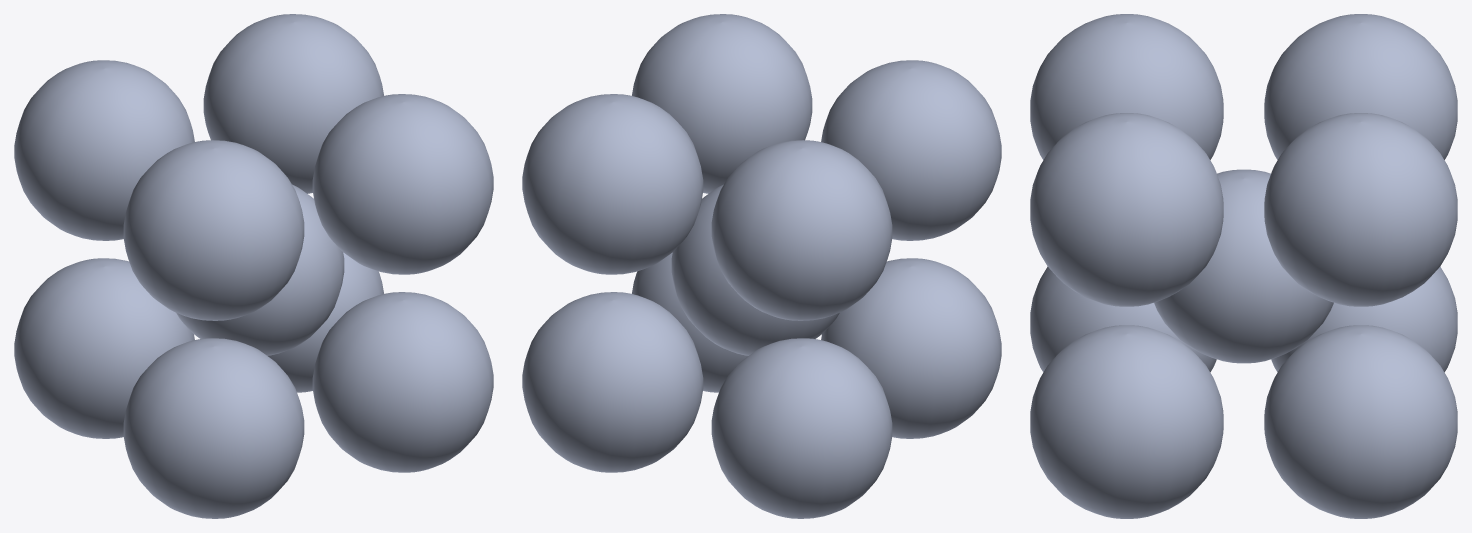
File: Cr_bcc.fbx
The picture shows the model from 3 angles, left to right: view 1: azimuth 30°, elevation 25°; view 2: azimuth 150°, elevation 25°; view 3: azimuth 270°, elevation 25°; orthographic projection. The views are drawn at different scales.
Visible parts, largest first — view 1: Chromium|Ball (NURBS)_Chromium|Dupli|0.0.0.0.0.0.0.0.0, Chromium|Ball (NURBS)_Chromium|Dupli|1.0.0.0.0.0.0.0.0, Chromium|Ball (NURBS)_Chromium|Dupli|5.0.0.0.0.0.0.0.0, Chromium|Ball (NURBS)_Chromium|Dupli|4.0.0.0.0.0.0.0.0, Chromium|Ball (NURBS)_Chromium|Dupli|3.0.0.0.0.0.0.0.0, Chromium|Ball (NURBS)_Chromium|Dupli|2.0.0.0.0.0.0.0.0, Chromium|Ball (NURBS)_Chromium|Dupli|7.0.0.0.0.0.0.0.0, Chromium|Ball (NURBS)_Chromium|Dupli|8.0.0.0.0.0.0.0.0, Chromium|Ball (NURBS)_Chromium|Dupli|6.0.0.0.0.0.0.0.0, Ball (NURBS)_Chromium; view 2: Chromium|Ball (NURBS)_Chromium|Dupli|2.0.0.0.0.0.0.0.0, Chromium|Ball (NURBS)_Chromium|Dupli|3.0.0.0.0.0.0.0.0, Chromium|Ball (NURBS)_Chromium|Dupli|7.0.0.0.0.0.0.0.0, Chromium|Ball (NURBS)_Chromium|Dupli|6.0.0.0.0.0.0.0.0, Chromium|Ball (NURBS)_Chromium|Dupli|1.0.0.0.0.0.0.0.0, Chromium|Ball (NURBS)_Chromium|Dupli|0.0.0.0.0.0.0.0.0, Chromium|Ball (NURBS)_Chromium|Dupli|5.0.0.0.0.0.0.0.0, Ball (NURBS)_Chromium, Chromium|Ball (NURBS)_Chromium|Dupli|4.0.0.0.0.0.0.0.0, Chromium|Ball (NURBS)_Chromium|Dupli|8.0.0.0.0.0.0.0.0; view 3: Chromium|Ball (NURBS)_Chromium|Dupli|7.0.0.0.0.0.0.0.0, Chromium|Ball (NURBS)_Chromium|Dupli|6.0.0.0.0.0.0.0.0, Chromium|Ball (NURBS)_Chromium|Dupli|5.0.0.0.0.0.0.0.0, Chromium|Ball (NURBS)_Chromium|Dupli|4.0.0.0.0.0.0.0.0, Chromium|Ball (NURBS)_Chromium|Dupli|3.0.0.0.0.0.0.0.0, Chromium|Ball (NURBS)_Chromium|Dupli|1.0.0.0.0.0.0.0.0, Ball (NURBS)_Chromium, Chromium|Ball (NURBS)_Chromium|Dupli|2.0.0.0.0.0.0.0.0, Chromium|Ball (NURBS)_Chromium|Dupli|0.0.0.0.0.0.0.0.0, Chromium|Ball (NURBS)_Chromium|Dupli|8.0.0.0.0.0.0.0.0.
Boxes of the visible parts, x1,y1,x2,y2 form: Chromium|Ball (NURBS)_Chromium|Dupli|0.0.0.0.0.0.0.0.0: (123, 338, 304, 518); Chromium|Ball (NURBS)_Chromium|Dupli|1.0.0.0.0.0.0.0.0: (123, 140, 304, 320); Chromium|Ball (NURBS)_Chromium|Dupli|5.0.0.0.0.0.0.0.0: (312, 94, 493, 274); Chromium|Ball (NURBS)_Chromium|Dupli|4.0.0.0.0.0.0.0.0: (312, 292, 493, 472); Chromium|Ball (NURBS)_Chromium|Dupli|3.0.0.0.0.0.0.0.0: (14, 60, 194, 240); Chromium|Ball (NURBS)_Chromium|Dupli|2.0.0.0.0.0.0.0.0: (14, 258, 194, 438); Chromium|Ball (NURBS)_Chromium|Dupli|7.0.0.0.0.0.0.0.0: (203, 14, 383, 193); Chromium|Ball (NURBS)_Chromium|Dupli|8.0.0.0.0.0.0.0.0: (176, 233, 344, 355); Chromium|Ball (NURBS)_Chromium|Dupli|6.0.0.0.0.0.0.0.0: (268, 252, 383, 392); Ball (NURBS)_Chromium: (292, 184, 343, 327); Chromium|Ball (NURBS)_Chromium|Dupli|2.0.0.0.0.0.0.0.0: (711, 338, 892, 518); Chromium|Ball (NURBS)_Chromium|Dupli|3.0.0.0.0.0.0.0.0: (711, 140, 892, 320); Chromium|Ball (NURBS)_Chromium|Dupli|7.0.0.0.0.0.0.0.0: (522, 94, 703, 274); Chromium|Ball (NURBS)_Chromium|Dupli|6.0.0.0.0.0.0.0.0: (522, 292, 703, 472); Chromium|Ball (NURBS)_Chromium|Dupli|1.0.0.0.0.0.0.0.0: (821, 60, 1001, 240); Chromium|Ball (NURBS)_Chromium|Dupli|0.0.0.0.0.0.0.0.0: (821, 258, 1001, 438); Chromium|Ball (NURBS)_Chromium|Dupli|5.0.0.0.0.0.0.0.0: (632, 14, 812, 193); Ball (NURBS)_Chromium: (671, 184, 806, 355); Chromium|Ball (NURBS)_Chromium|Dupli|4.0.0.0.0.0.0.0.0: (632, 252, 747, 392); Chromium|Ball (NURBS)_Chromium|Dupli|8.0.0.0.0.0.0.0.0: (709, 313, 839, 355); Chromium|Ball (NURBS)_Chromium|Dupli|7.0.0.0.0.0.0.0.0: (1264, 113, 1457, 306); Chromium|Ball (NURBS)_Chromium|Dupli|6.0.0.0.0.0.0.0.0: (1264, 325, 1457, 518); Chromium|Ball (NURBS)_Chromium|Dupli|5.0.0.0.0.0.0.0.0: (1030, 113, 1223, 306); Chromium|Ball (NURBS)_Chromium|Dupli|4.0.0.0.0.0.0.0.0: (1030, 325, 1223, 518); Chromium|Ball (NURBS)_Chromium|Dupli|3.0.0.0.0.0.0.0.0: (1264, 14, 1457, 159); Chromium|Ball (NURBS)_Chromium|Dupli|1.0.0.0.0.0.0.0.0: (1030, 14, 1223, 159); Ball (NURBS)_Chromium: (1164, 169, 1333, 363); Chromium|Ball (NURBS)_Chromium|Dupli|2.0.0.0.0.0.0.0.0: (1271, 266, 1457, 372); Chromium|Ball (NURBS)_Chromium|Dupli|0.0.0.0.0.0.0.0.0: (1030, 266, 1216, 372); Chromium|Ball (NURBS)_Chromium|Dupli|8.0.0.0.0.0.0.0.0: (1154, 293, 1305, 363).
Bounding box in the file's own units: 520 × 521 × 520.
